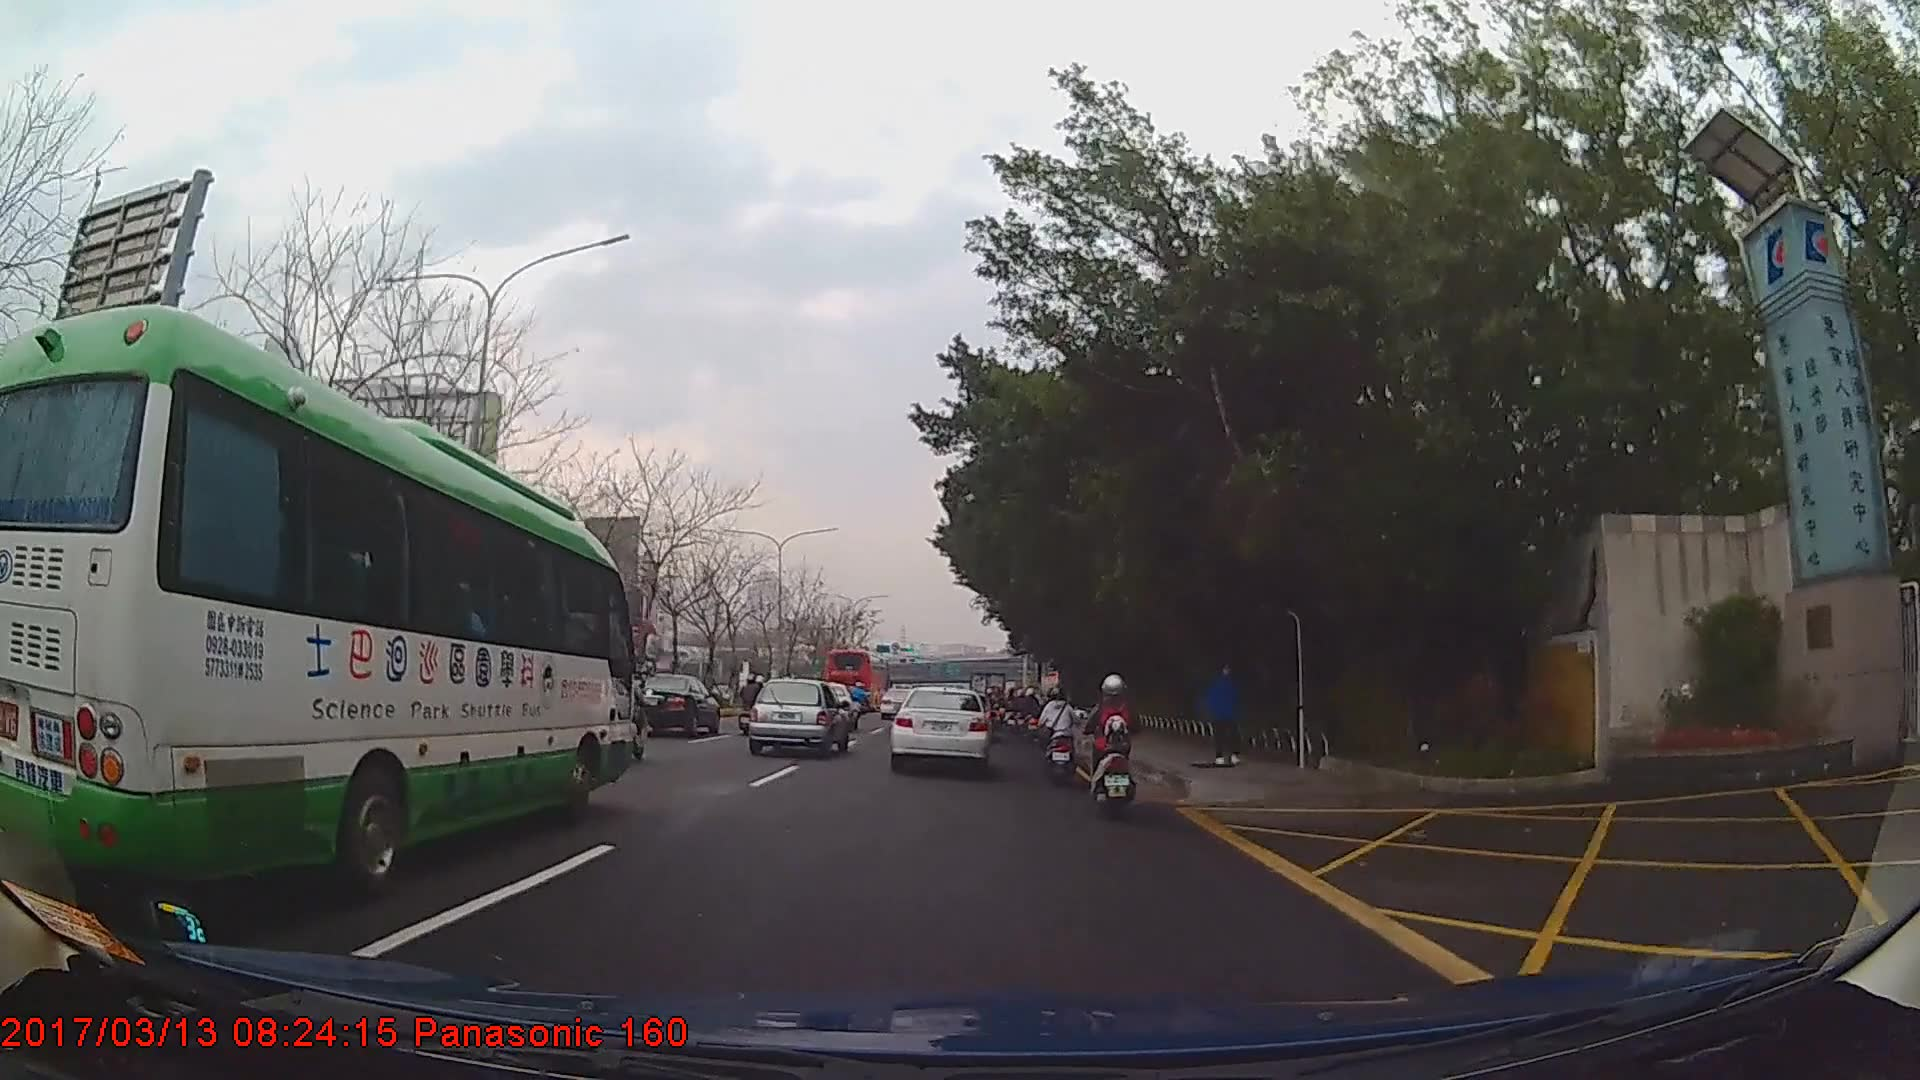pedestrian: (1210, 665, 1247, 766)
rider: (1083, 675, 1139, 814), (1039, 689, 1080, 782), (740, 674, 766, 724)
vehicle: (0, 297, 637, 900), (888, 680, 991, 769), (747, 678, 850, 756), (634, 669, 720, 737), (826, 647, 893, 711)
